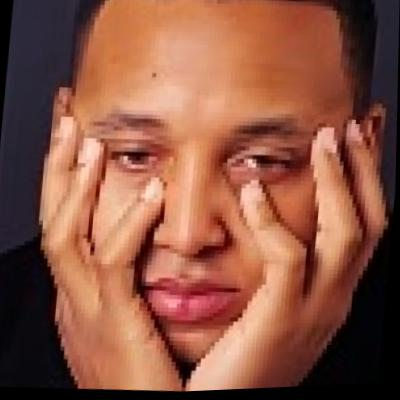sad: (69, 14, 349, 347)
